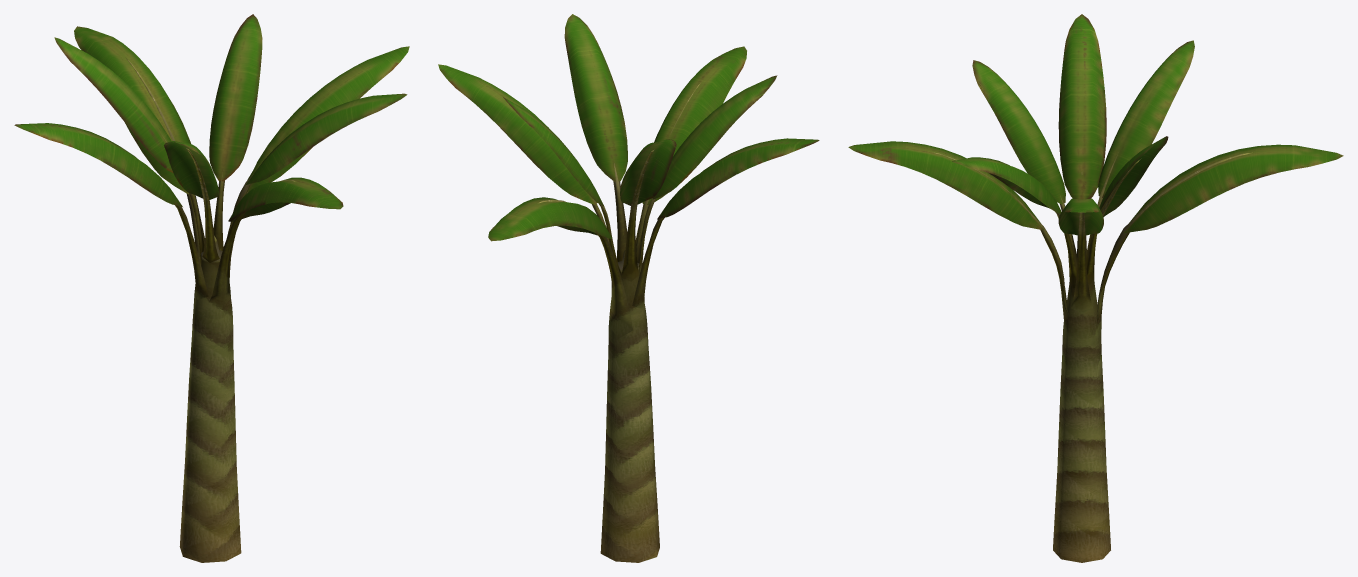
The model's file is sb_obj_nature010_Jungles05a.fbx.
3 views of the same model, side by side, from view 1: azimuth 30°, elevation 25°; view 2: azimuth 150°, elevation 25°; view 3: azimuth 270°, elevation 25° (orthographic). The views are drawn at different scales.
Parts seen in each view (by area): view 1: leaf05a, sb_obj_nature010_Jungles05a; view 2: leaf05a, sb_obj_nature010_Jungles05a; view 3: leaf05a, sb_obj_nature010_Jungles05a.
Part boxes in pixels (box(x1,y1,x2,y2)): leaf05a: box(14, 14, 409, 221); sb_obj_nature010_Jungles05a: box(126, 58, 295, 562); leaf05a: box(438, 14, 819, 241); sb_obj_nature010_Jungles05a: box(537, 83, 700, 562); leaf05a: box(848, 14, 1343, 235); sb_obj_nature010_Jungles05a: box(932, 152, 1252, 562).
Bounding box in the file's own units: 3.01 × 3.59 × 3.46.
Materials: 2 (2 with a texture image).
